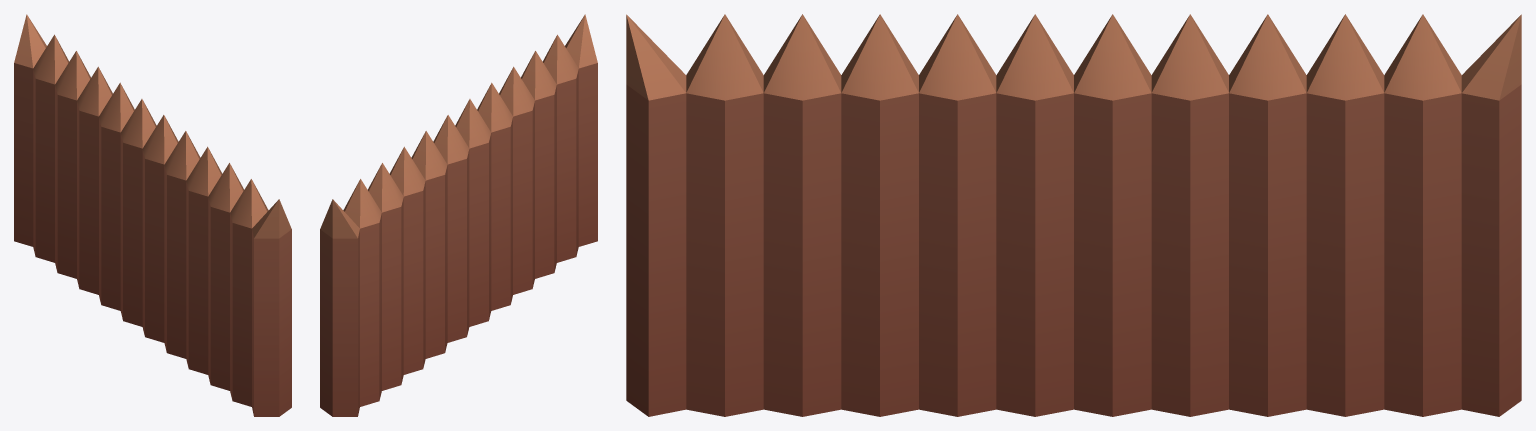
The model's file is fence_wood_straight.glb.
3 renders of one model, left to right at view 1: azimuth 30°, elevation 25°; view 2: azimuth 150°, elevation 25°; view 3: azimuth 270°, elevation 25°, orthographic. The views are drawn at different scales.
Visible parts, largest first — view 1: fence_wood_straight; view 2: fence_wood_straight; view 3: fence_wood_straight.
Boxes of the visible parts, bbox=[...] form: fence_wood_straight: bbox=[14, 14, 291, 416]; fence_wood_straight: bbox=[320, 14, 597, 416]; fence_wood_straight: bbox=[626, 14, 1521, 416].
Size of the model in its own units: 0.0999 by 0.5501 by 1.15.
1 material, 1 textured.
